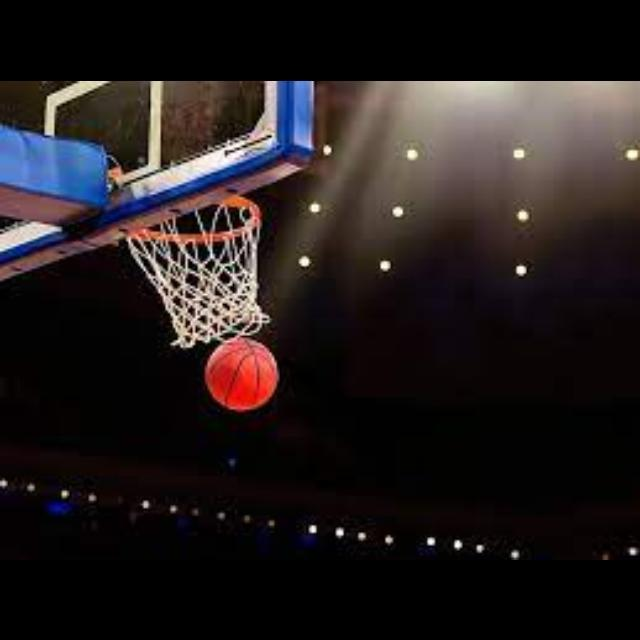basketball: (203, 341, 277, 412)
rim: (125, 195, 263, 338)
